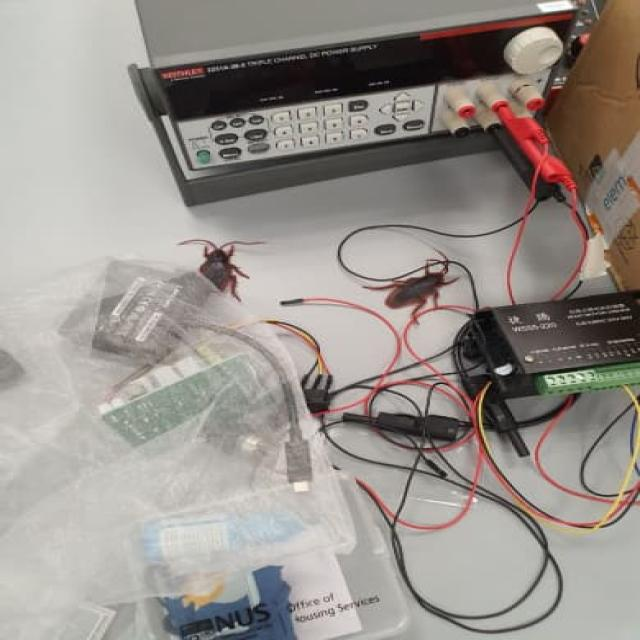Cockroach: (179, 235, 267, 300), (380, 251, 454, 316)
